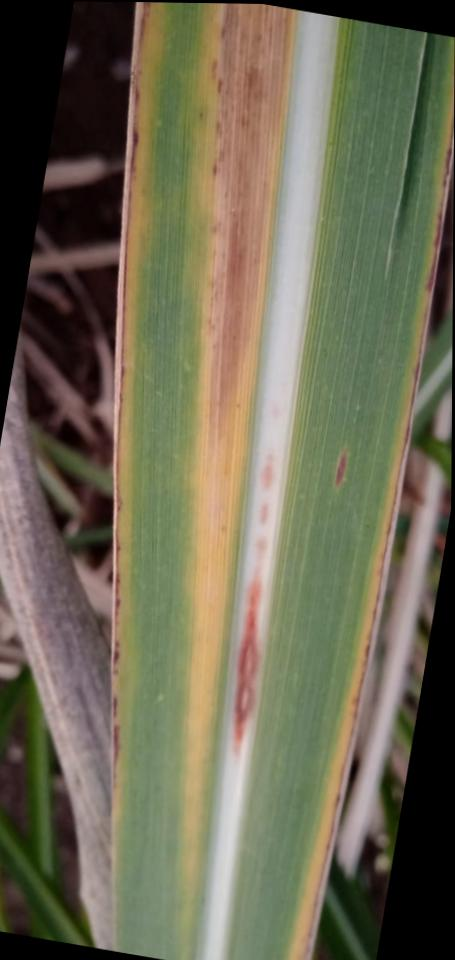RedRot: (232, 535, 269, 756), (259, 454, 272, 490), (261, 502, 268, 525)
Rust: (334, 451, 347, 487), (209, 59, 218, 79), (215, 78, 223, 94), (220, 26, 226, 40), (211, 166, 217, 175), (215, 123, 220, 133)
Yellow: (286, 66, 455, 960), (178, 3, 297, 875), (111, 2, 162, 827)
